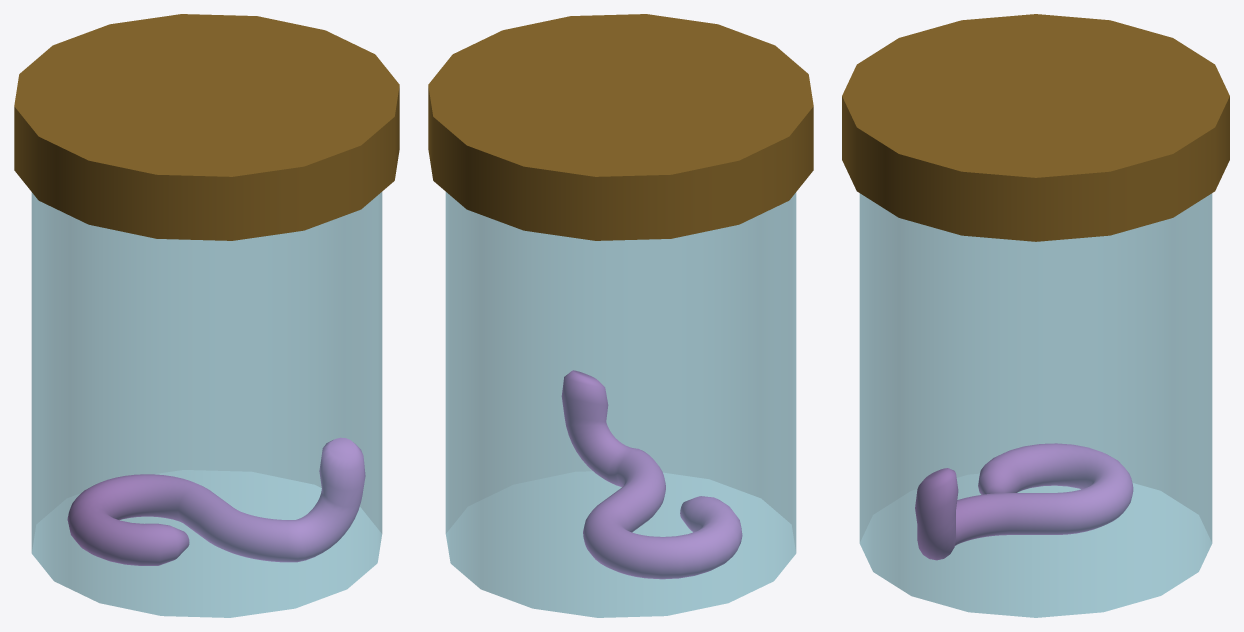
Rendered from wormBottle.fbx.
3 views of the same model, side by side, from view 1: azimuth 30°, elevation 25°; view 2: azimuth 150°, elevation 25°; view 3: azimuth 270°, elevation 25° (orthographic).
Parts seen in each view (by area): view 1: bottle, lid, worm; view 2: bottle, lid, worm; view 3: bottle, lid, worm.
Boxes of the visible parts, <box> form: bottle: <box>31,192,382,617</box>; lid: <box>14,14,399,240</box>; worm: <box>67,437,365,565</box>; bottle: <box>445,192,796,617</box>; lid: <box>428,14,813,240</box>; worm: <box>561,370,742,579</box>; bottle: <box>859,193,1212,617</box>; lid: <box>842,14,1229,241</box>; worm: <box>915,443,1133,560</box>.
Size of the model in its own units: 220 by 280 by 220.
